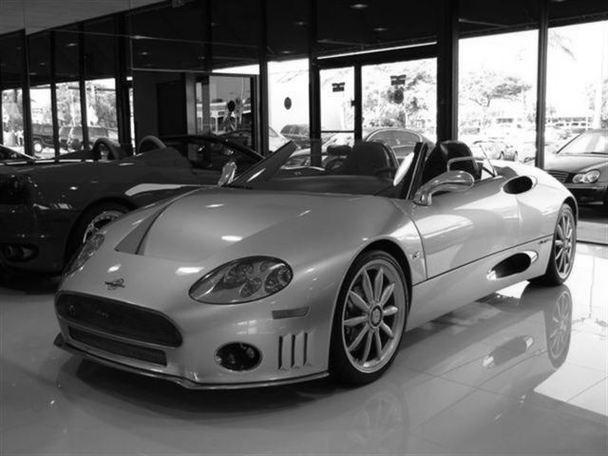car: (50, 137, 583, 395)
